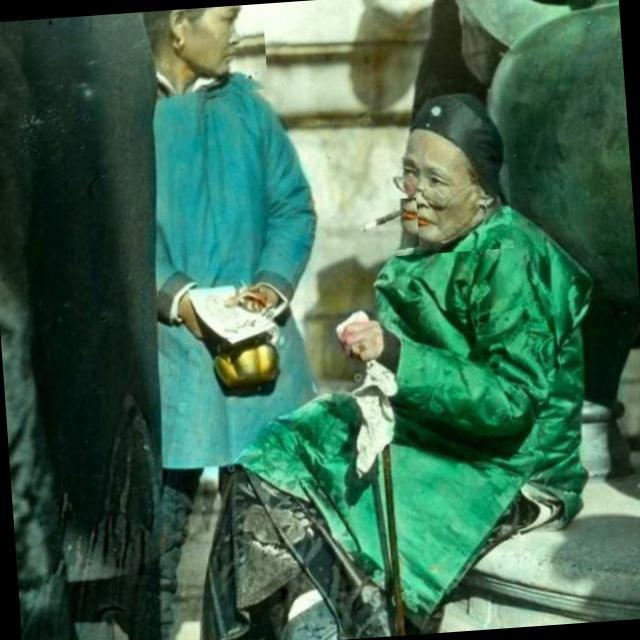cigarette: (349, 197, 419, 258)
